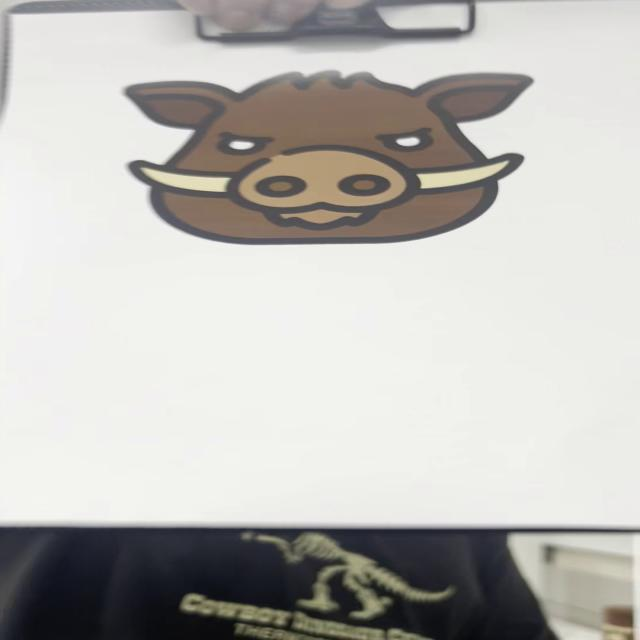animal: (112, 66, 554, 251)
